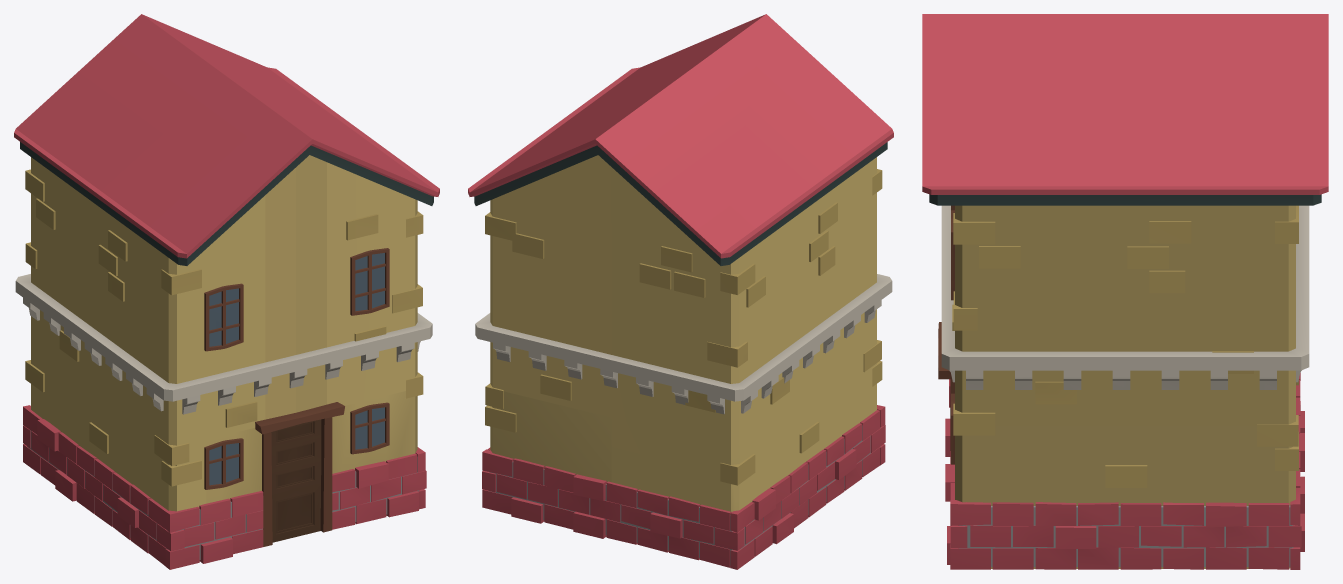
Rendered from house-2.glb.
3 renders of one model, left to right at view 1: azimuth 30°, elevation 25°; view 2: azimuth 150°, elevation 25°; view 3: azimuth 270°, elevation 25°, orthographic. The views are drawn at different scales.
Visible parts, largest first — view 1: house-2; view 2: house-2; view 3: house-2.
Boxes of the visible parts, x1,y1,x2,y2 form: house-2: (14, 14, 439, 569); house-2: (468, 14, 893, 569); house-2: (922, 14, 1328, 569).
Size of the model in its own units: 6.35 by 9.21 by 7.
